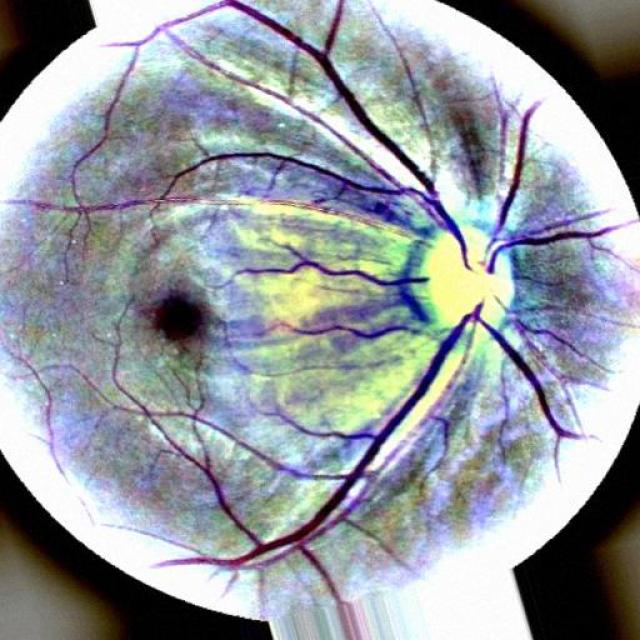Macula: (138, 283, 219, 364)
Nerves: (257, 359, 459, 560), (237, 5, 424, 194), (511, 335, 566, 454), (498, 115, 536, 220)
Optic Disk: (393, 212, 525, 355)
